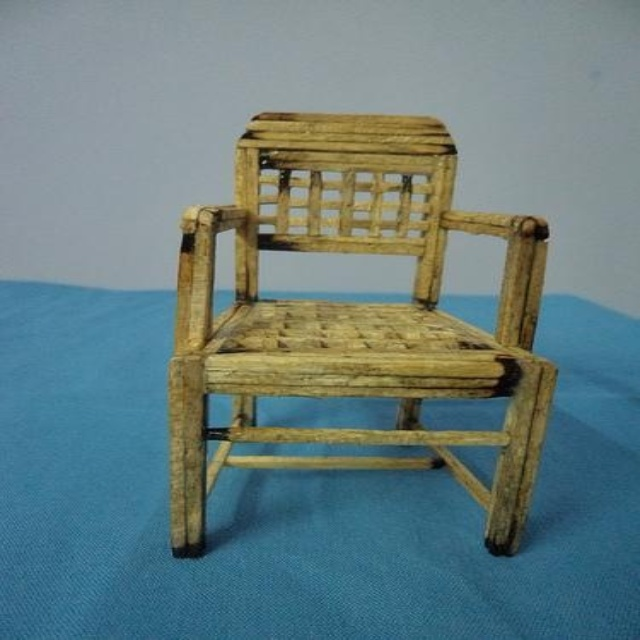obstacle: (169, 113, 555, 556)
